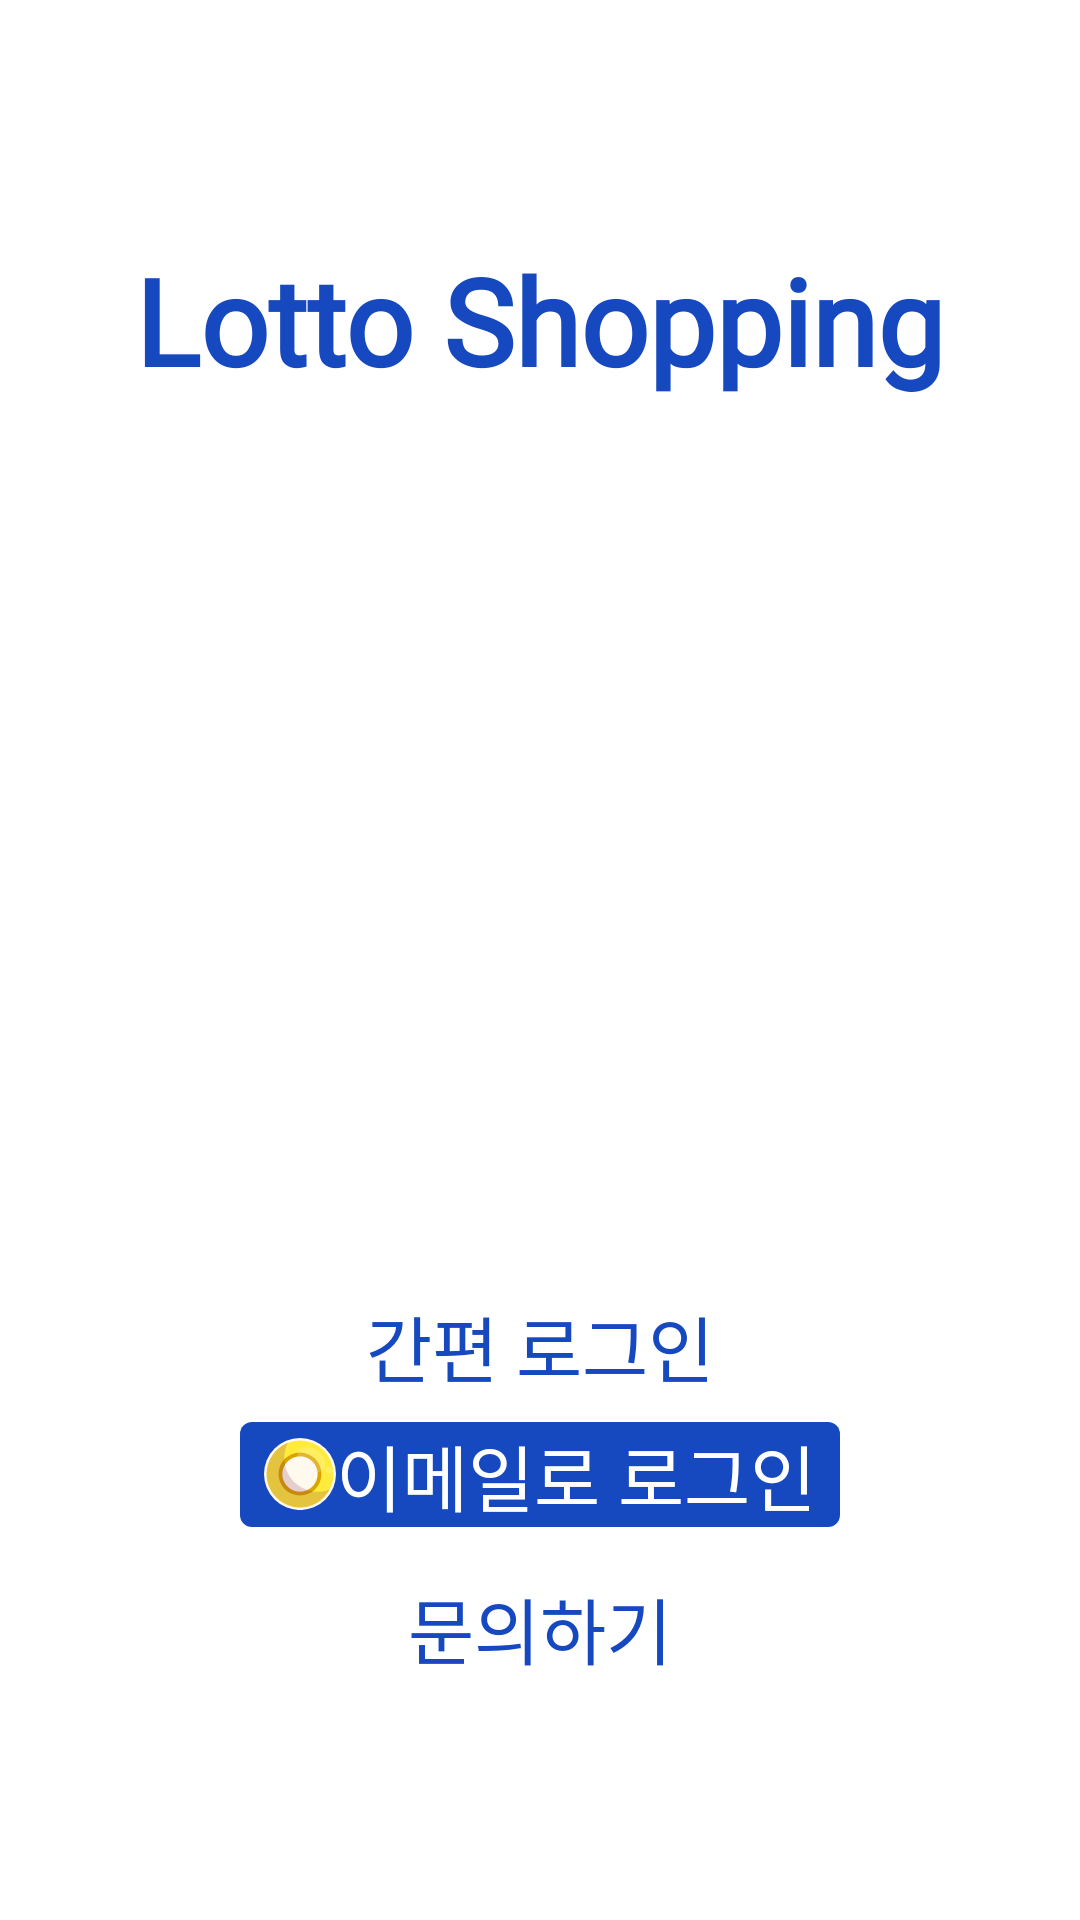

Where icons sit on this 1080 × 1920 app screen, as (x1, y1, x2, y2):
lotto ball: (264, 1438, 336, 1510)
